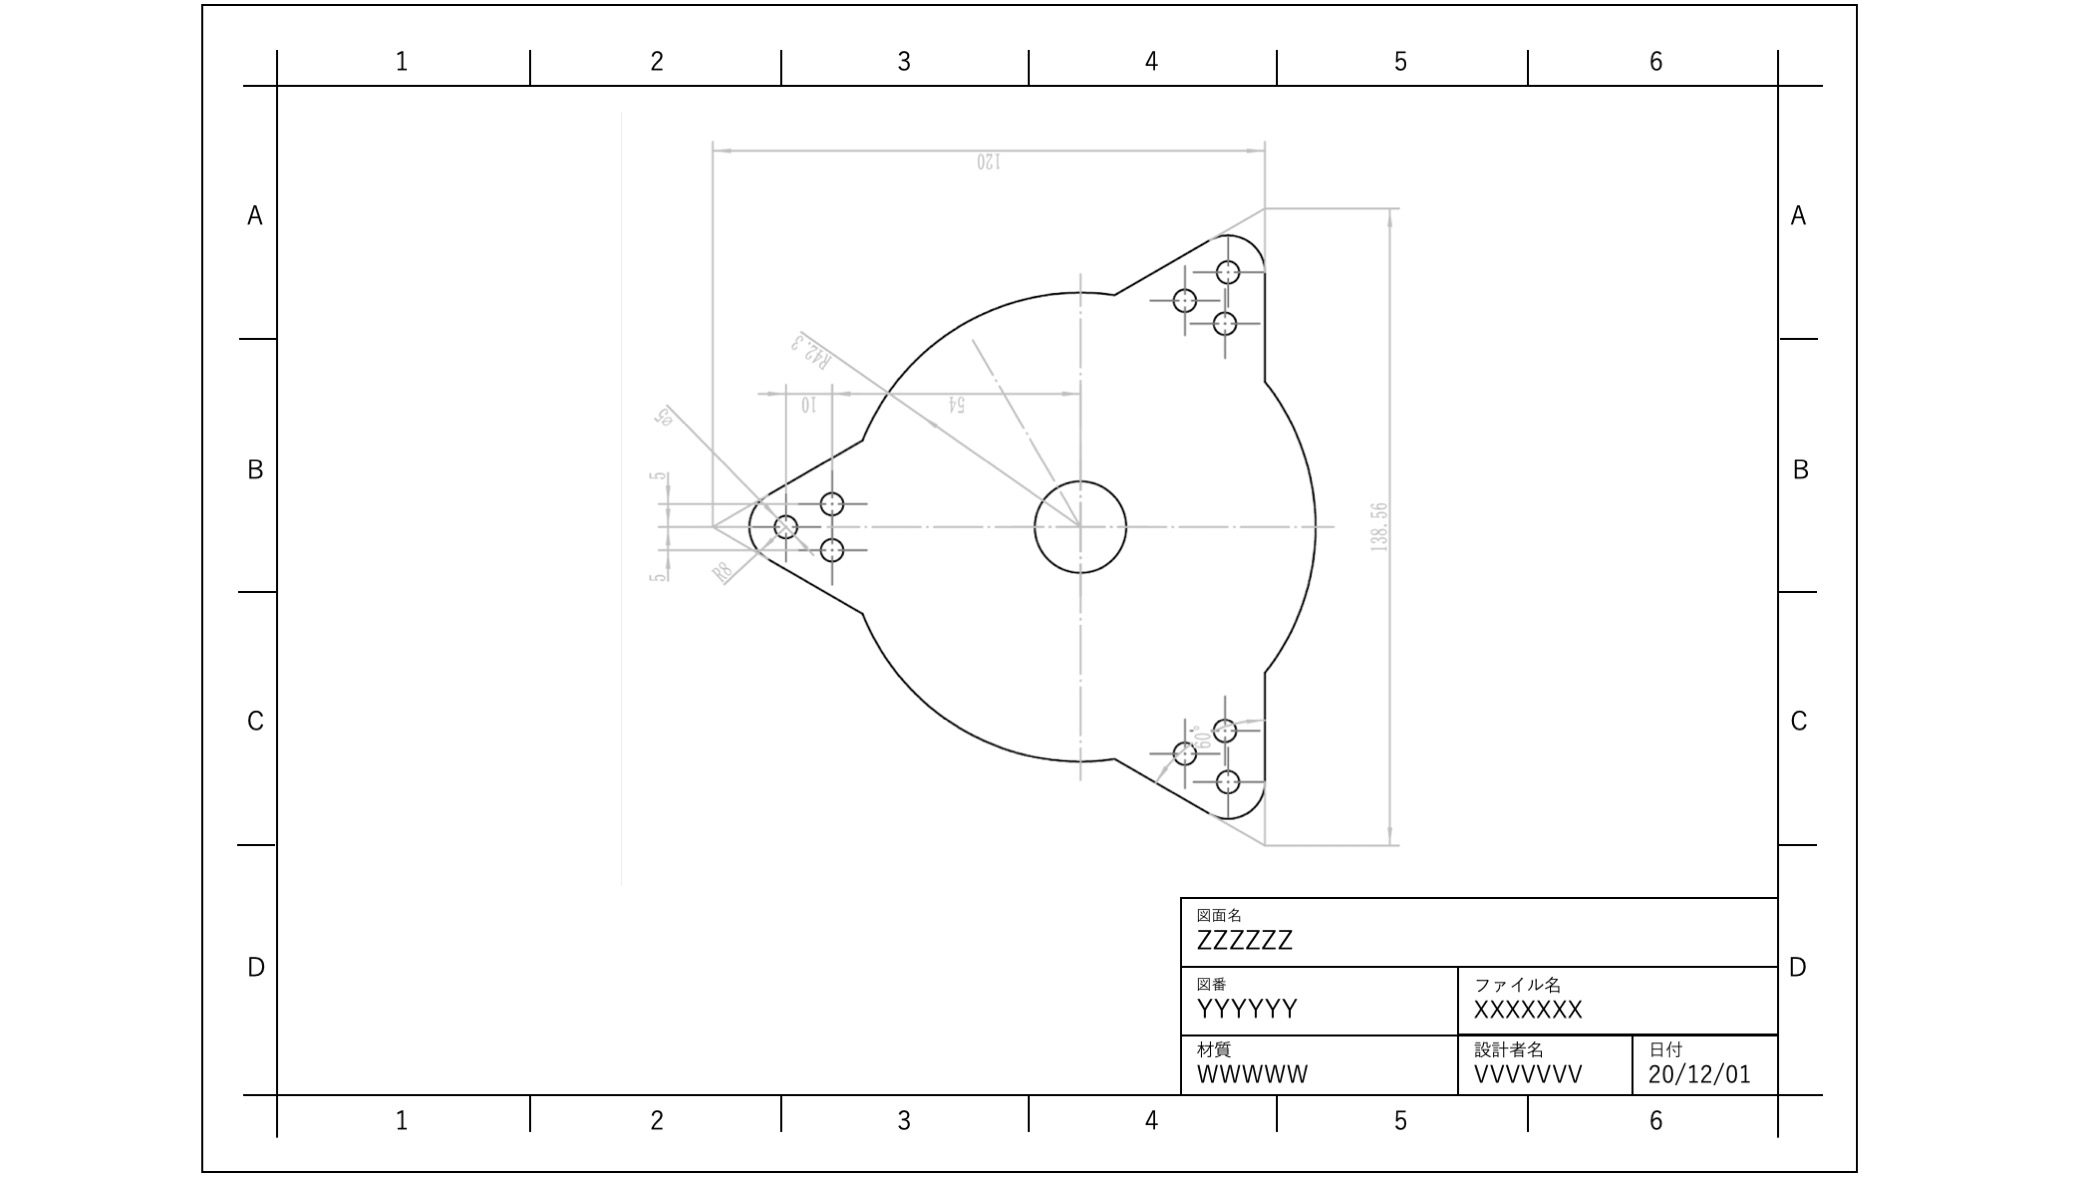circle: (1028, 472, 1131, 575), (754, 505, 800, 554), (1214, 761, 1252, 808), (1209, 707, 1245, 748), (1209, 255, 1252, 290), (1160, 727, 1194, 769), (805, 539, 850, 565), (1213, 301, 1240, 337), (812, 486, 850, 512), (1164, 286, 1199, 313)
